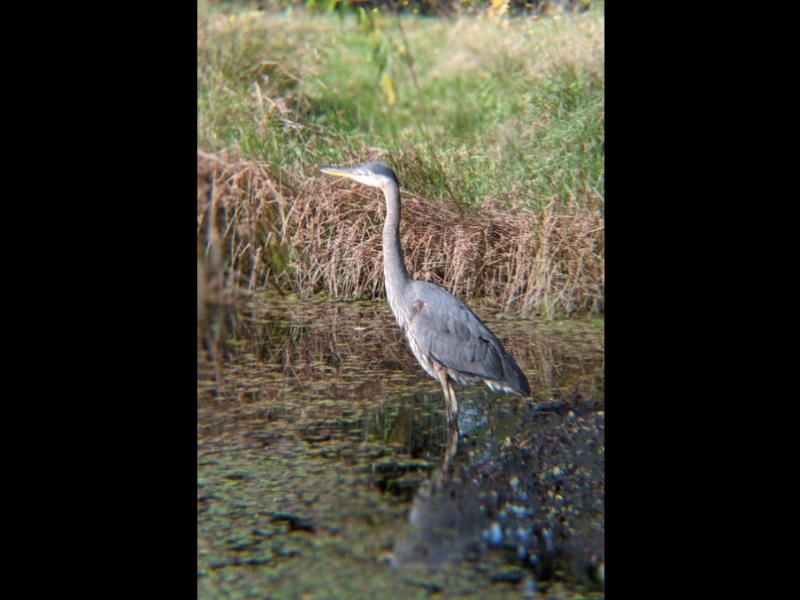heron: (320, 162, 534, 459)
